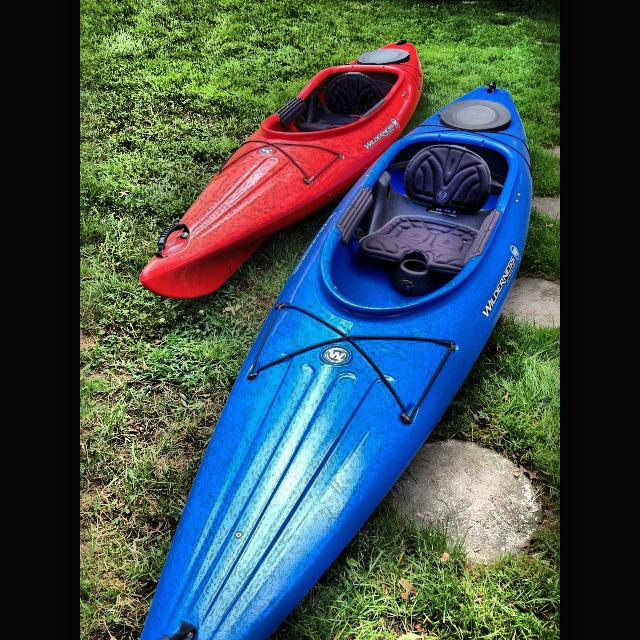kayak: (140, 84, 532, 640), (138, 41, 424, 302)
